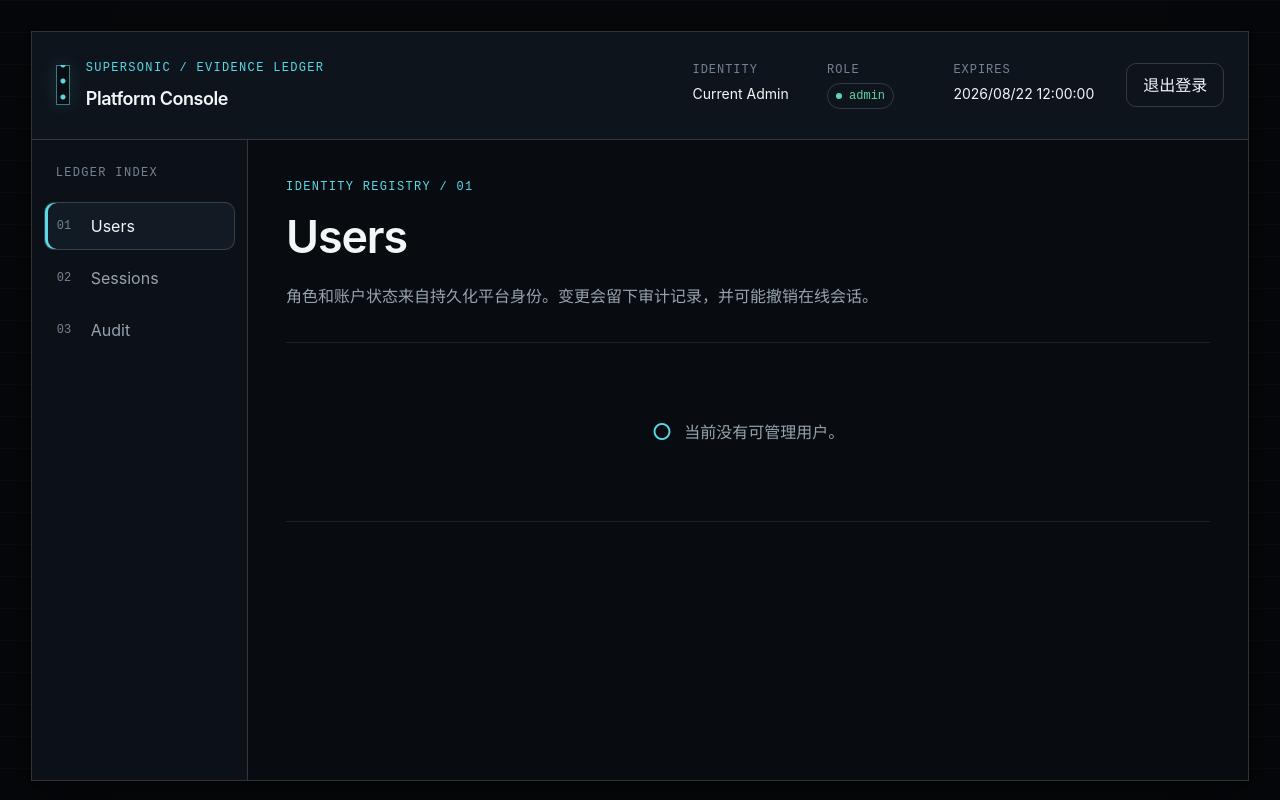
Test: PlatformConsole › shows a Sessions panel error and retries for the selected user
Click the tab "02 Sessions": [139, 278] box [44,254,235,302]
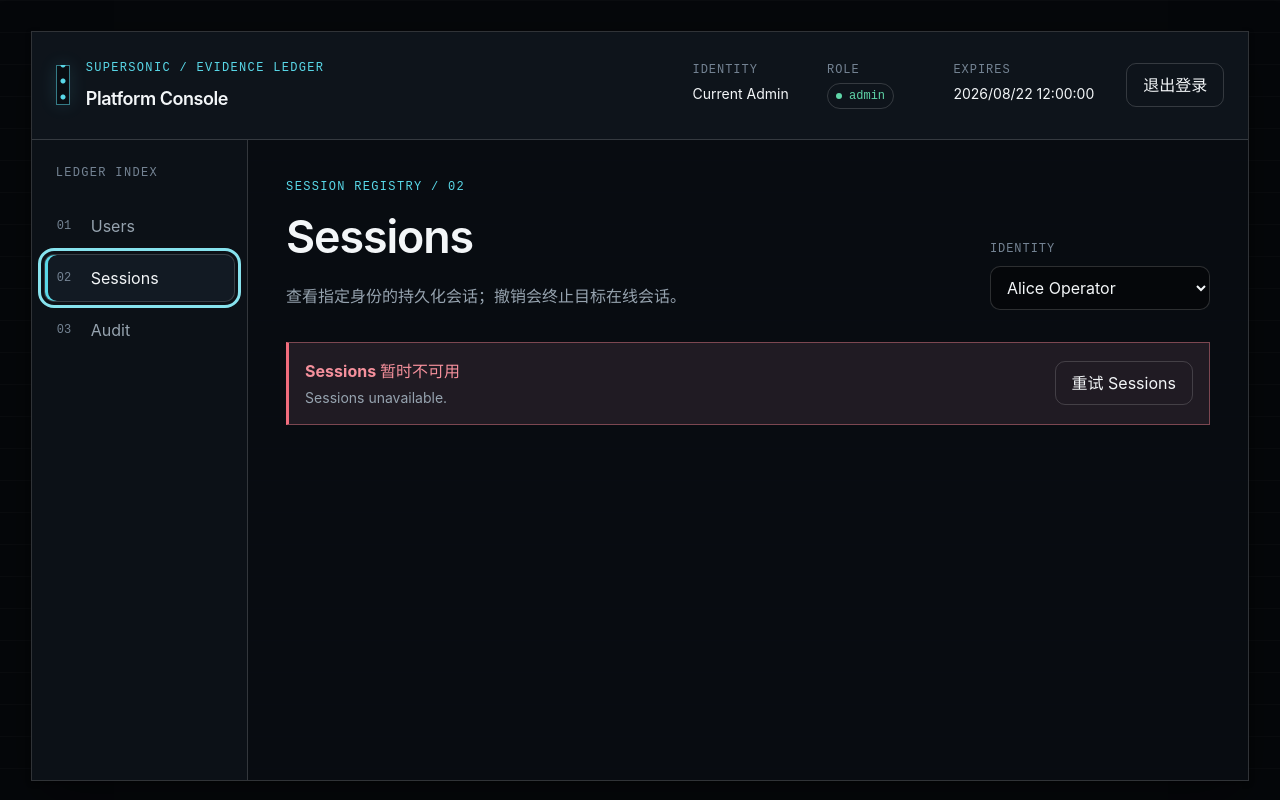
Now the message shows "Sessions unavailable.", box [305,389,447,406]
Click the button "重试 Sessions": [1124, 383] box [1054,361,1193,405]
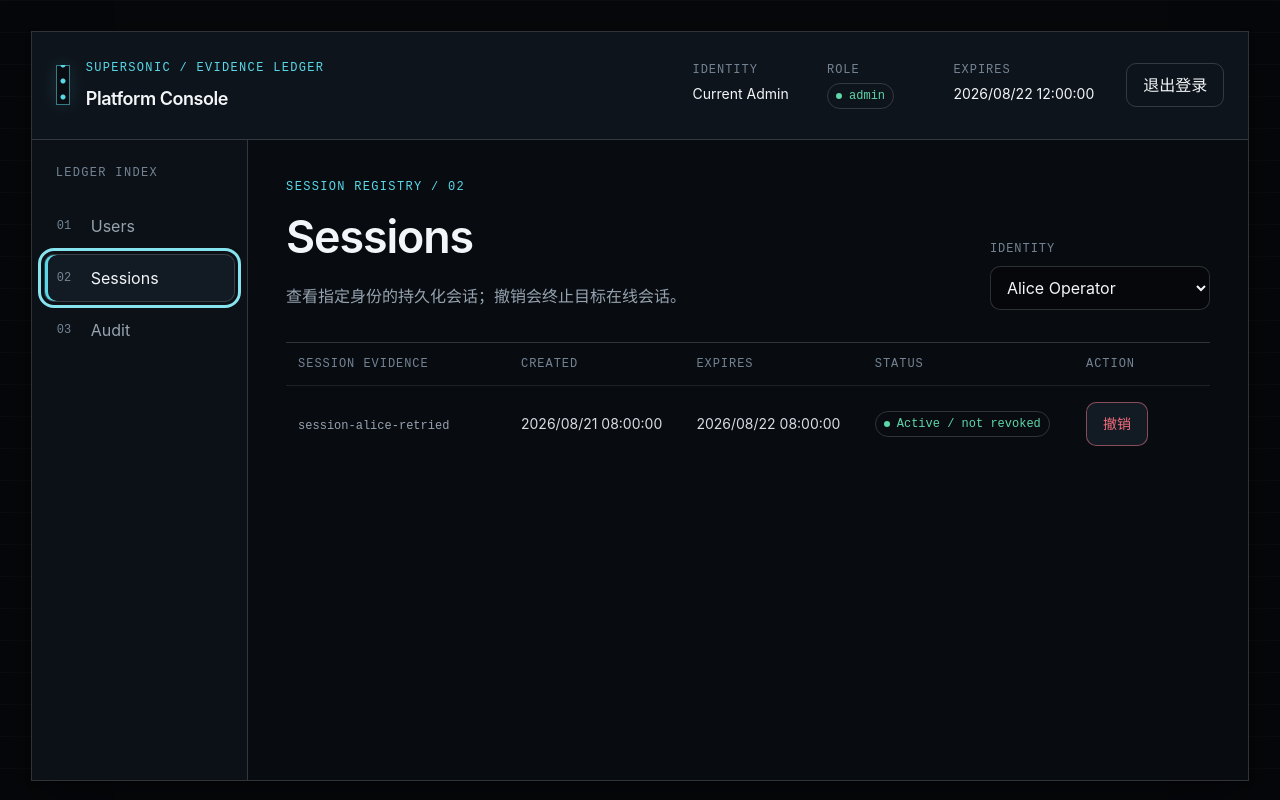
Now the text "session-alice-retried" is shown, box [298,419,449,433]
